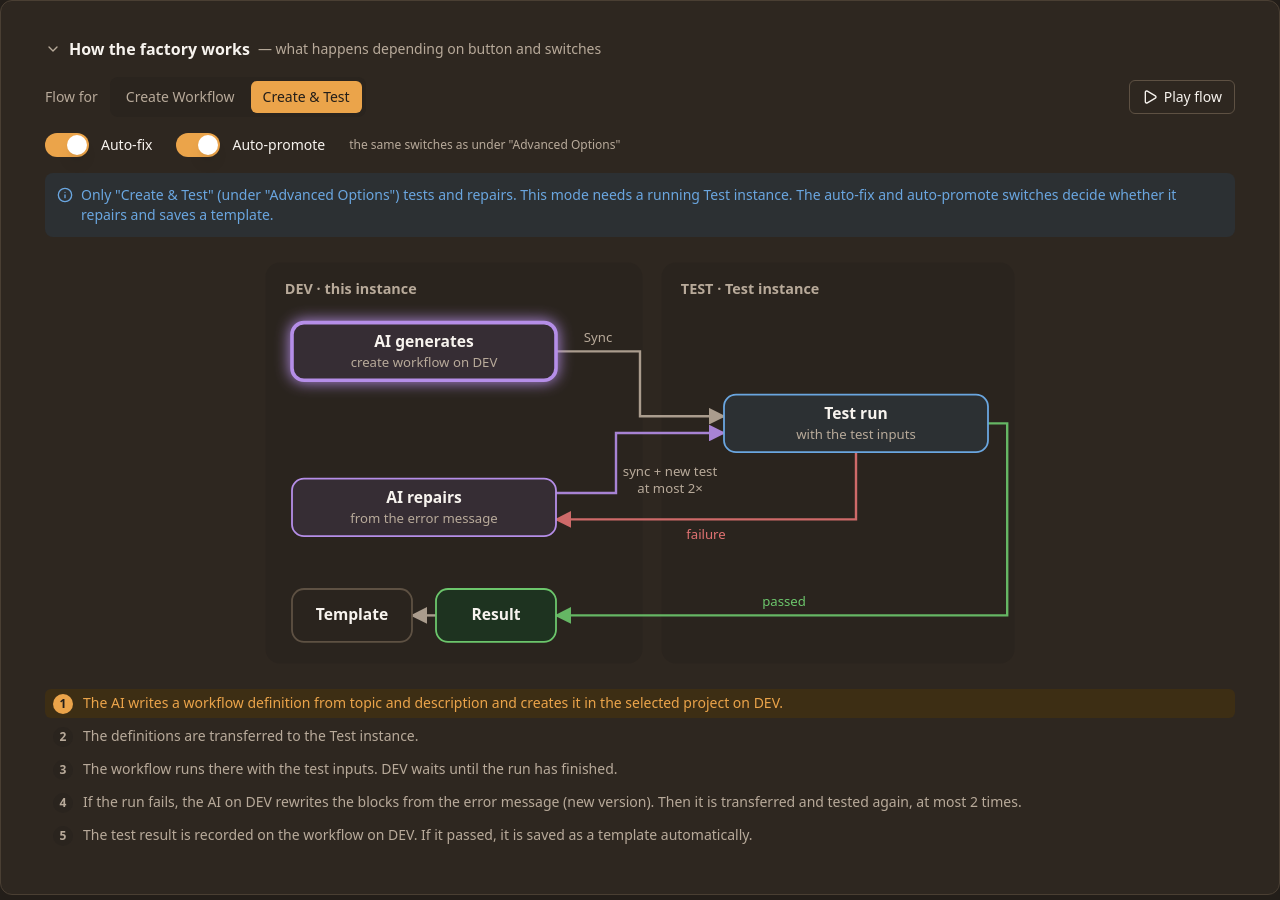
Test: FactoryFlowDiagram › waits for "Play" under reduced motion and toggles to "Pause"
Step 1. Click the button "Play flow" → click(1182, 97), box [1129,80,1235,114]
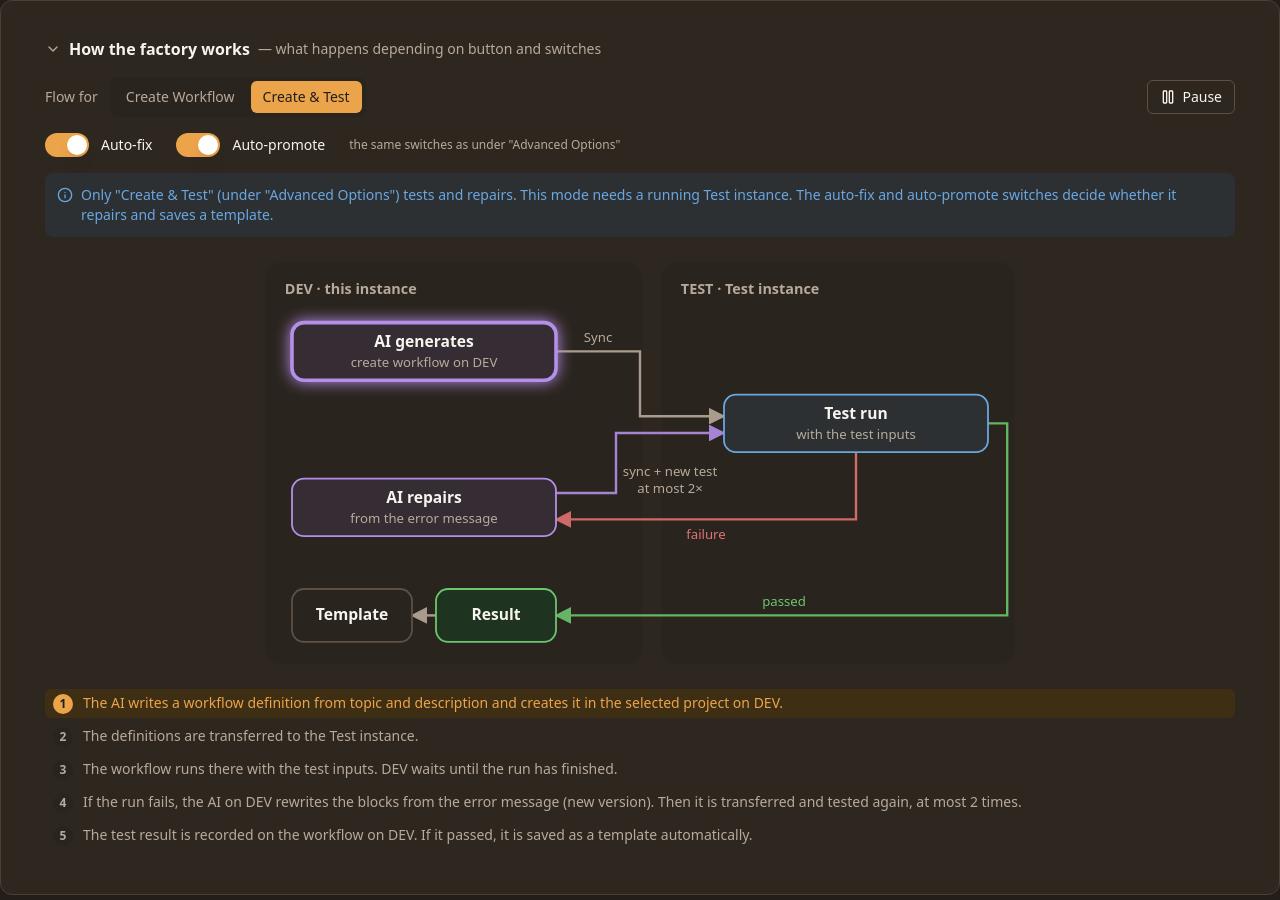
Check: the button "Pause" is shown, box [1147,80,1235,114]
